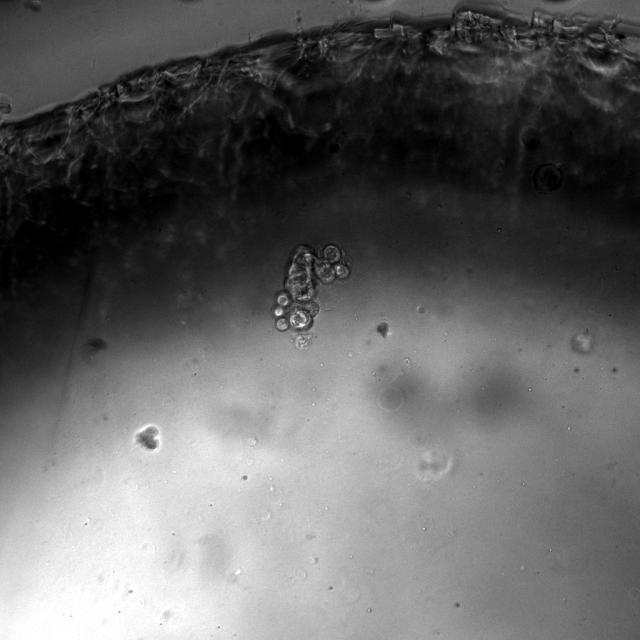organoid: (272, 243, 351, 333), (135, 425, 159, 451), (571, 328, 594, 354), (87, 337, 106, 349), (377, 322, 388, 337)
